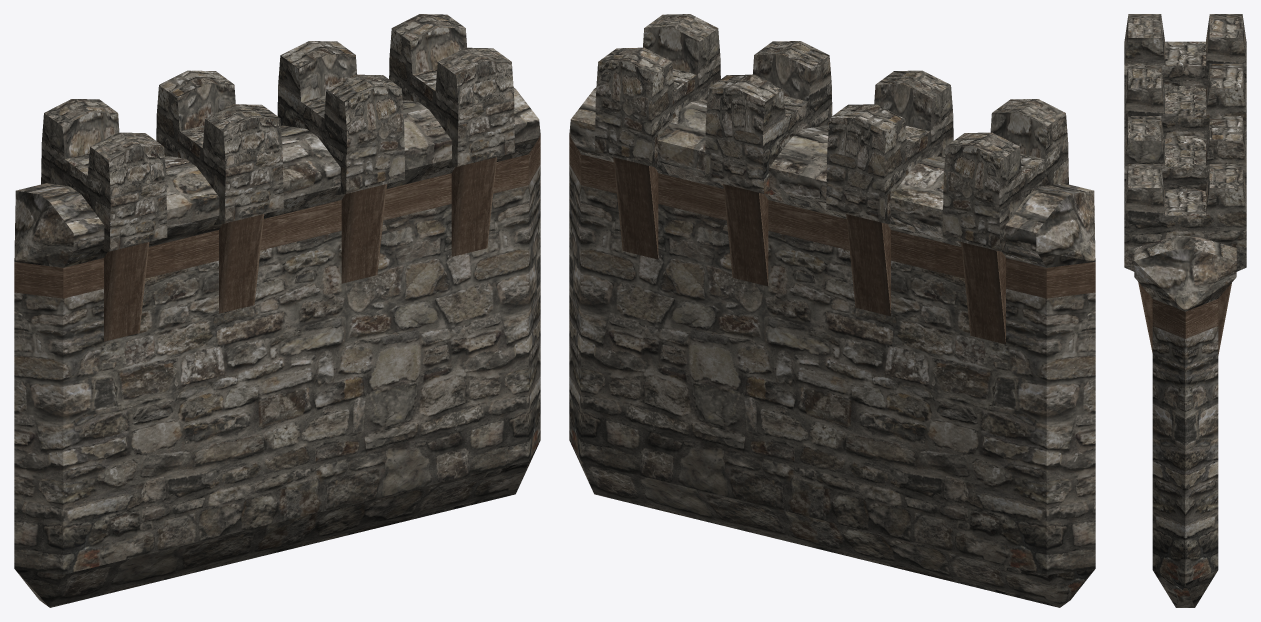
File: Tall_Stone_Wall.dae
3 renders of one model, left to right at view 1: azimuth 30°, elevation 25°; view 2: azimuth 150°, elevation 25°; view 3: azimuth 270°, elevation 25°, orthographic. The views are drawn at different scales.
Visible parts, largest first — view 1: TallStoneWall; view 2: TallStoneWall; view 3: TallStoneWall.
Boxes of the visible parts, box(x1,y1,x2,y2) form: TallStoneWall: box(14, 14, 540, 607); TallStoneWall: box(569, 14, 1095, 607); TallStoneWall: box(1124, 14, 1246, 607).
Bounding box in the file's own units: 4.52 × 3.83 × 1.03.
Materials: 1 (1 with a texture image).
